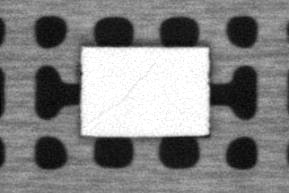DIE_CRACK: (86, 63, 156, 125)
